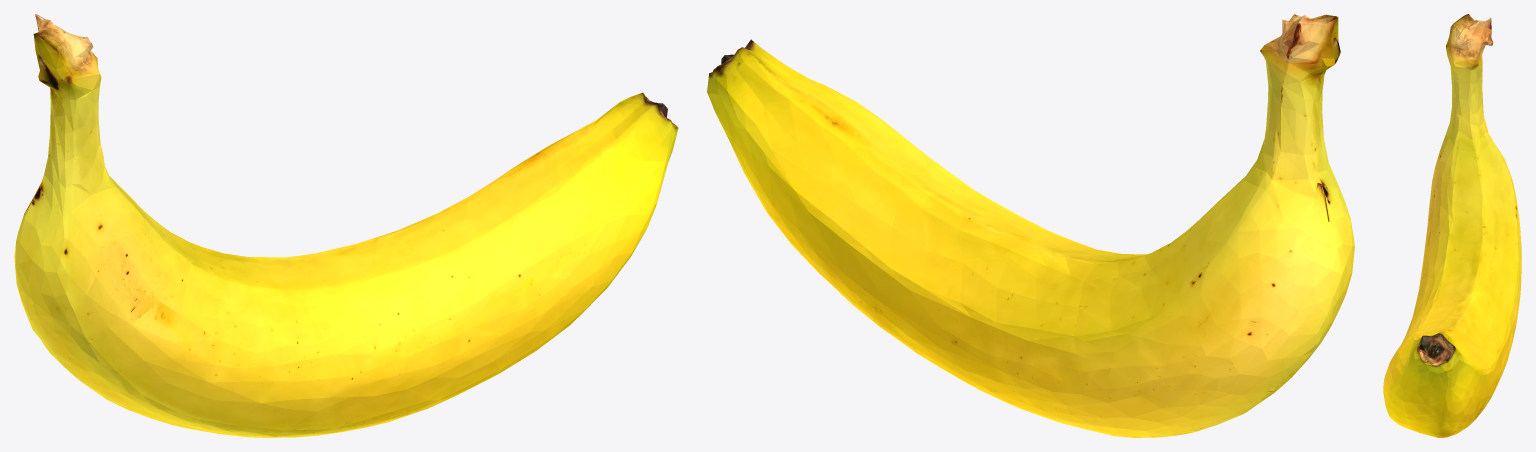
File: banana.glb
The picture shows the model from 3 angles, left to right: view 1: azimuth 30°, elevation 25°; view 2: azimuth 150°, elevation 25°; view 3: azimuth 270°, elevation 25°; orthographic projection. The views are drawn at different scales.
Parts seen in each view (by area): view 1: banana; view 2: banana; view 3: banana.
Part boxes in pixels (left/top/right/bottom): banana: left=14, top=14, right=678, bottom=437; banana: left=707, top=14, right=1354, bottom=437; banana: left=1383, top=14, right=1521, bottom=437.
Bounding box in the file's own units: 6.73 × 4.69 × 1.91.
1 material, 1 textured.
